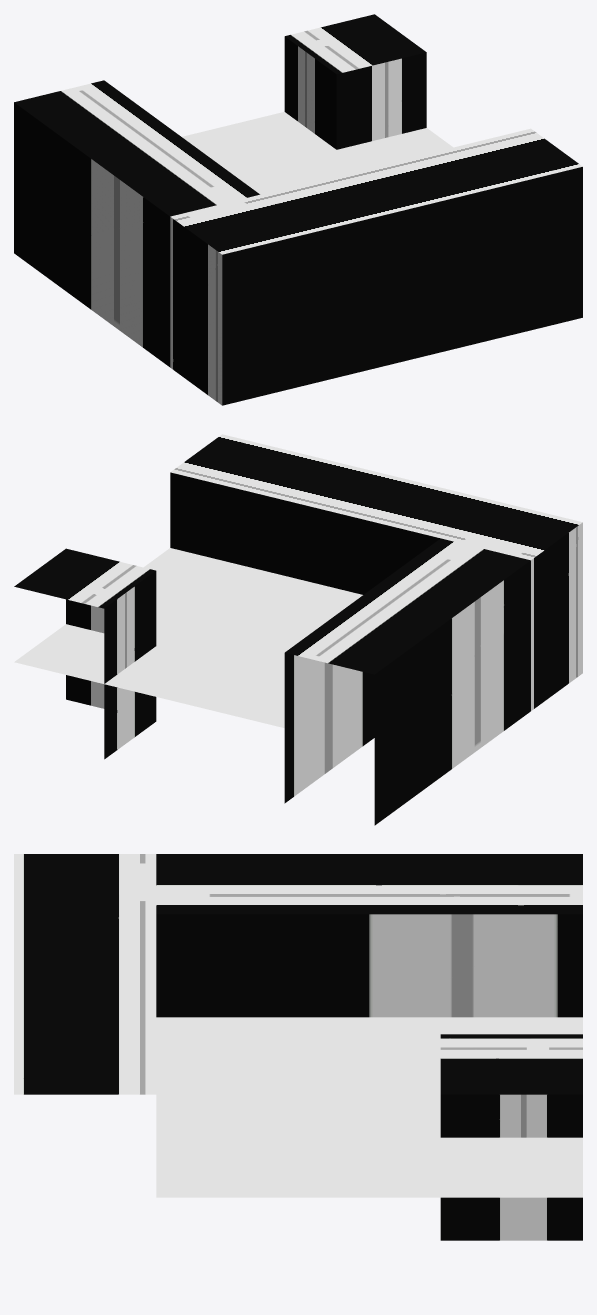
File: TurnLeft.obj
3 renders of one model, top to bottom at view 1: azimuth 30°, elevation 25°; view 2: azimuth 150°, elevation 25°; view 3: azimuth 270°, elevation 25°, orthographic. The views are drawn at different scales.
Parts seen in each view (by area): view 1: TurnLeft; view 2: TurnLeft; view 3: TurnLeft.
Boxes of the visible parts, x1=… form: TurnLeft: x1=14, y1=14, x2=582, y2=405; TurnLeft: x1=14, y1=434, x2=582, y2=825; TurnLeft: x1=14, y1=854, x2=582, y2=1240.
Size of the model in its own units: 1 by 0.4 by 1.
